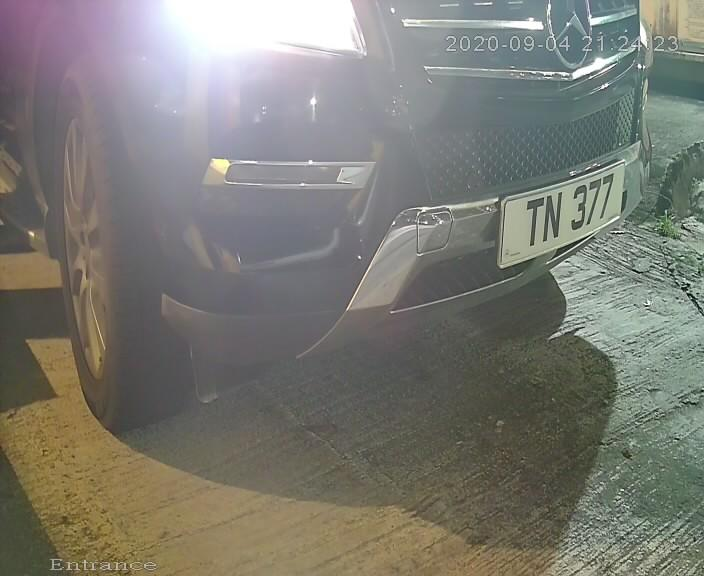License Plate: (491, 152, 629, 283)
